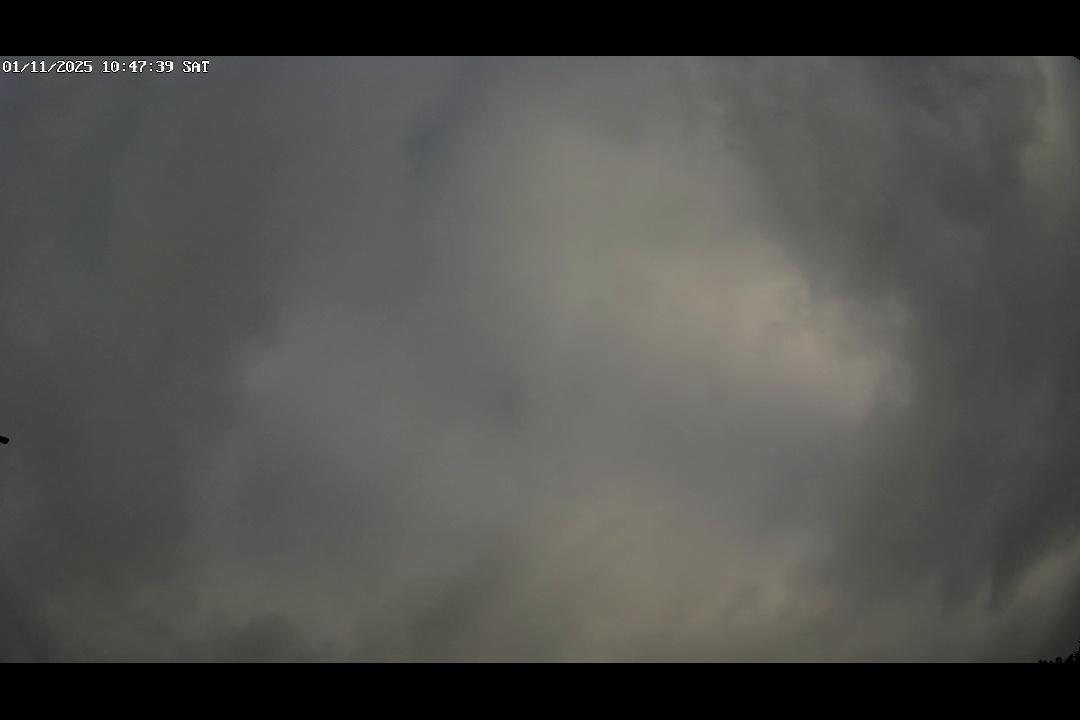WildLife: (0, 427, 23, 452)
